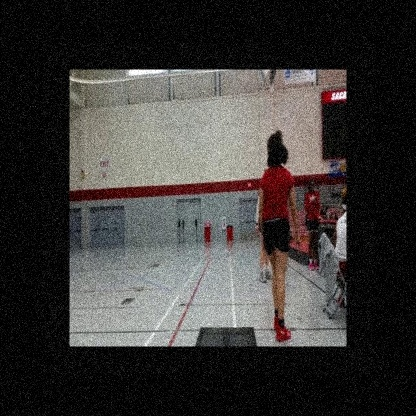lateral_flexion_left: (257, 128, 302, 346)
stance_width_narrow: (257, 163, 292, 346)
